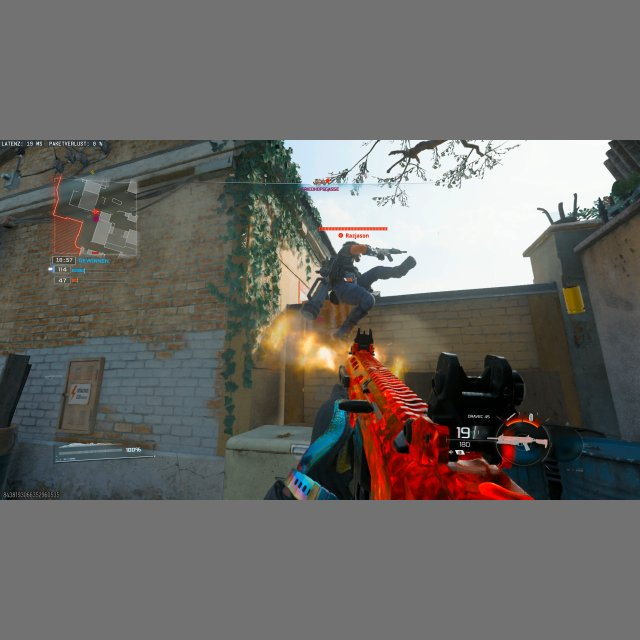head: (349, 242, 366, 260)
player: (308, 240, 410, 344)
